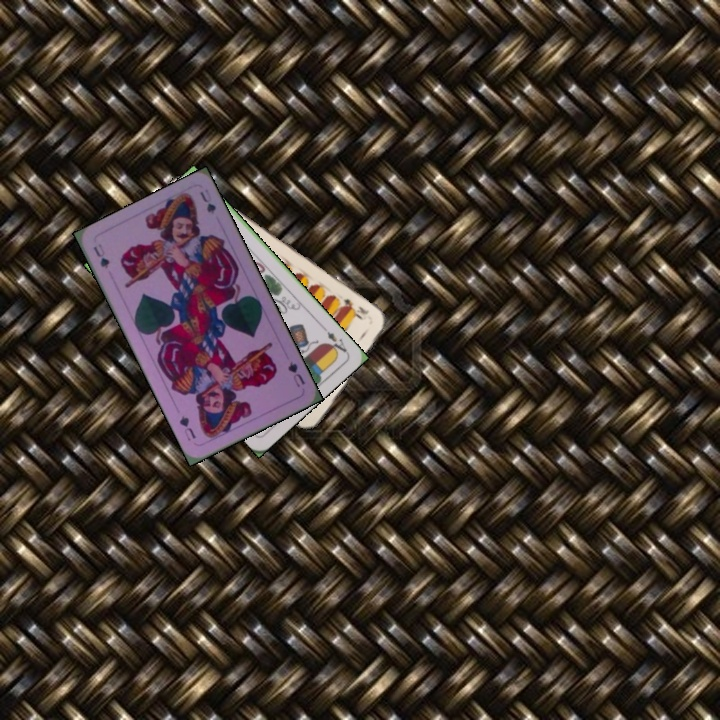E10: (339, 294, 371, 321)
EA: (319, 322, 349, 357)
GU: (284, 357, 308, 390), (89, 239, 112, 271)
